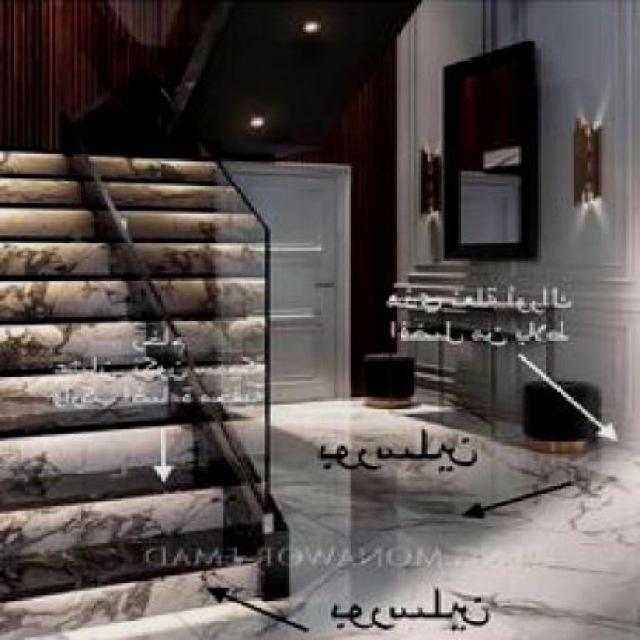stair: (1, 117, 312, 609)
